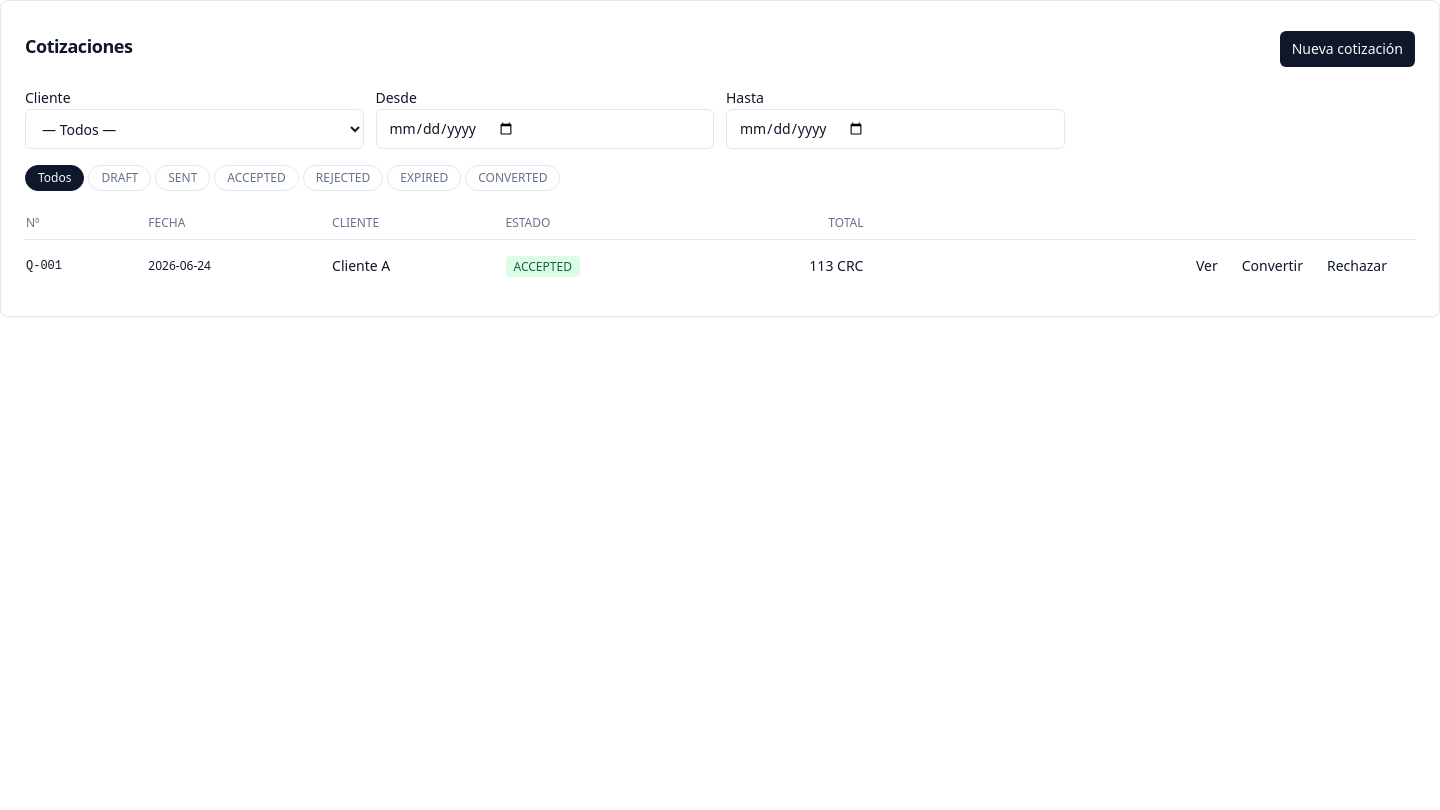
Test: QuotationsPage — selector de nivel de precio por línea (PR-37) › el override manual del precio no se pisa al re-renderizar; margen ef. refleja el precio override
Click the button "Nueva cotización" at (1347, 49), box [1280,31,1415,67]
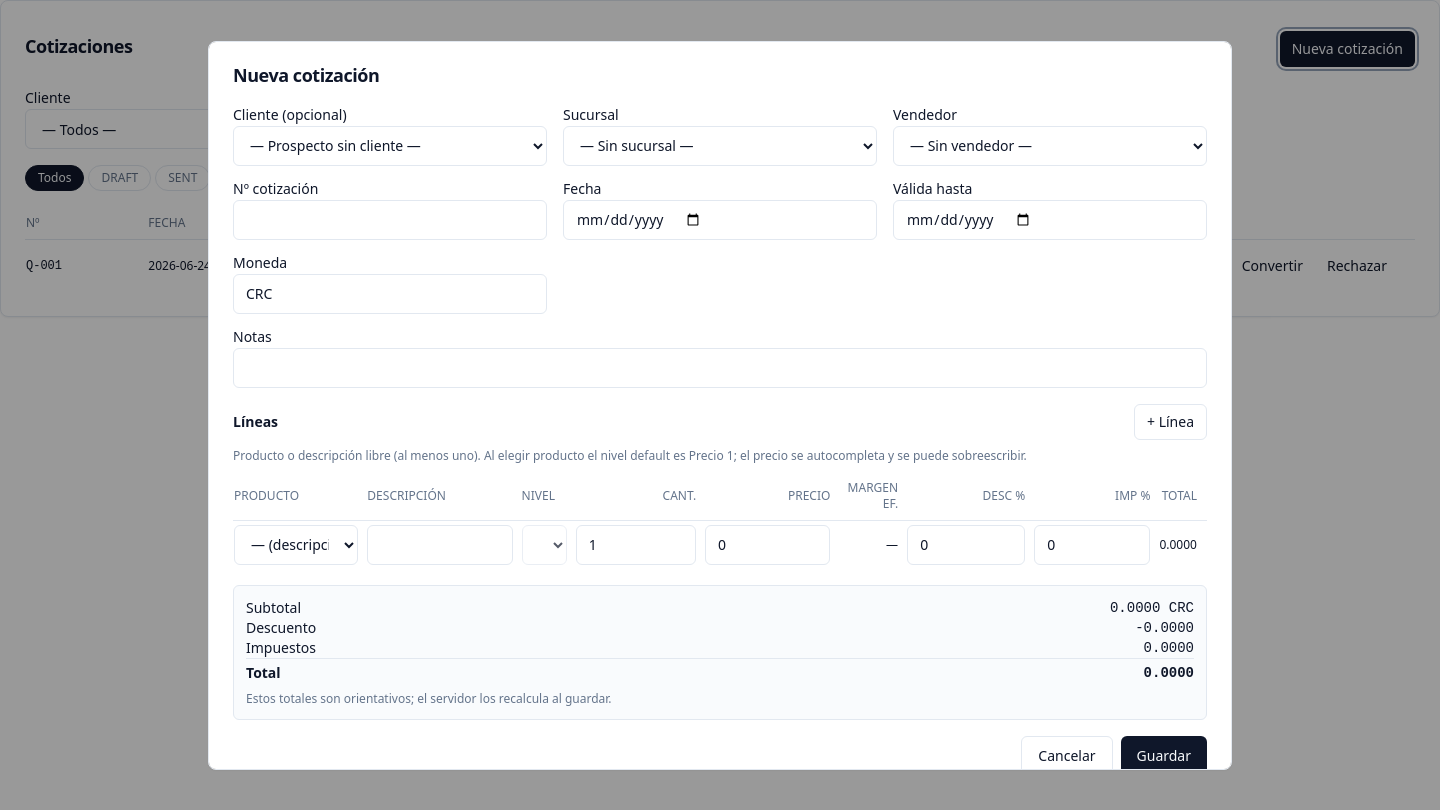
Expected: the dropdown named "producto línea 1" is shown
Select "P-1 — Producto X" in the dropdown named "producto línea 1" at (296, 544), box [234,524,358,564]
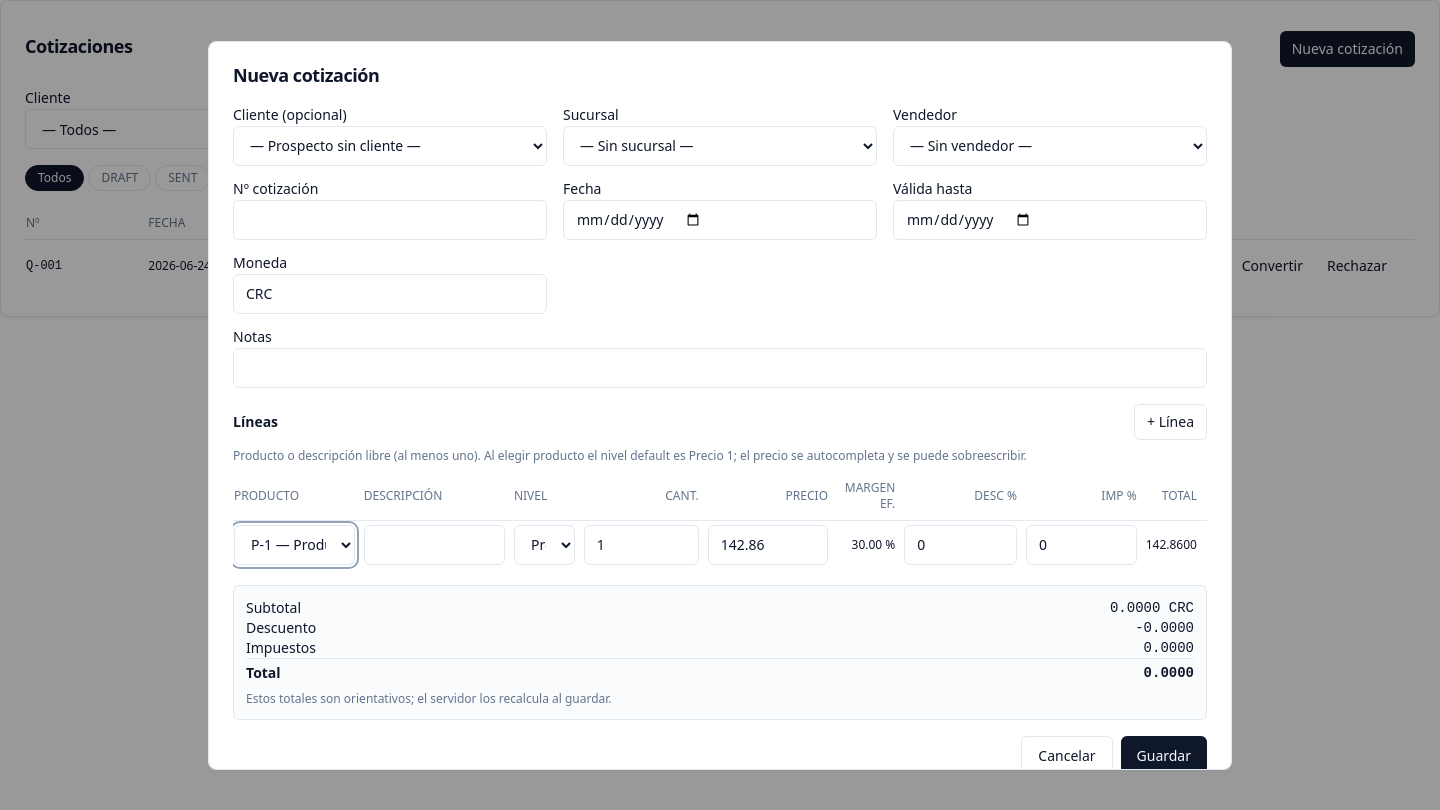
Expected: the dropdown with test id "quote-line-level-0" shows "Precio 1", [514,524,575,564]
Clear the field named "precio línea 1" at (768, 544), box [708,524,828,564]
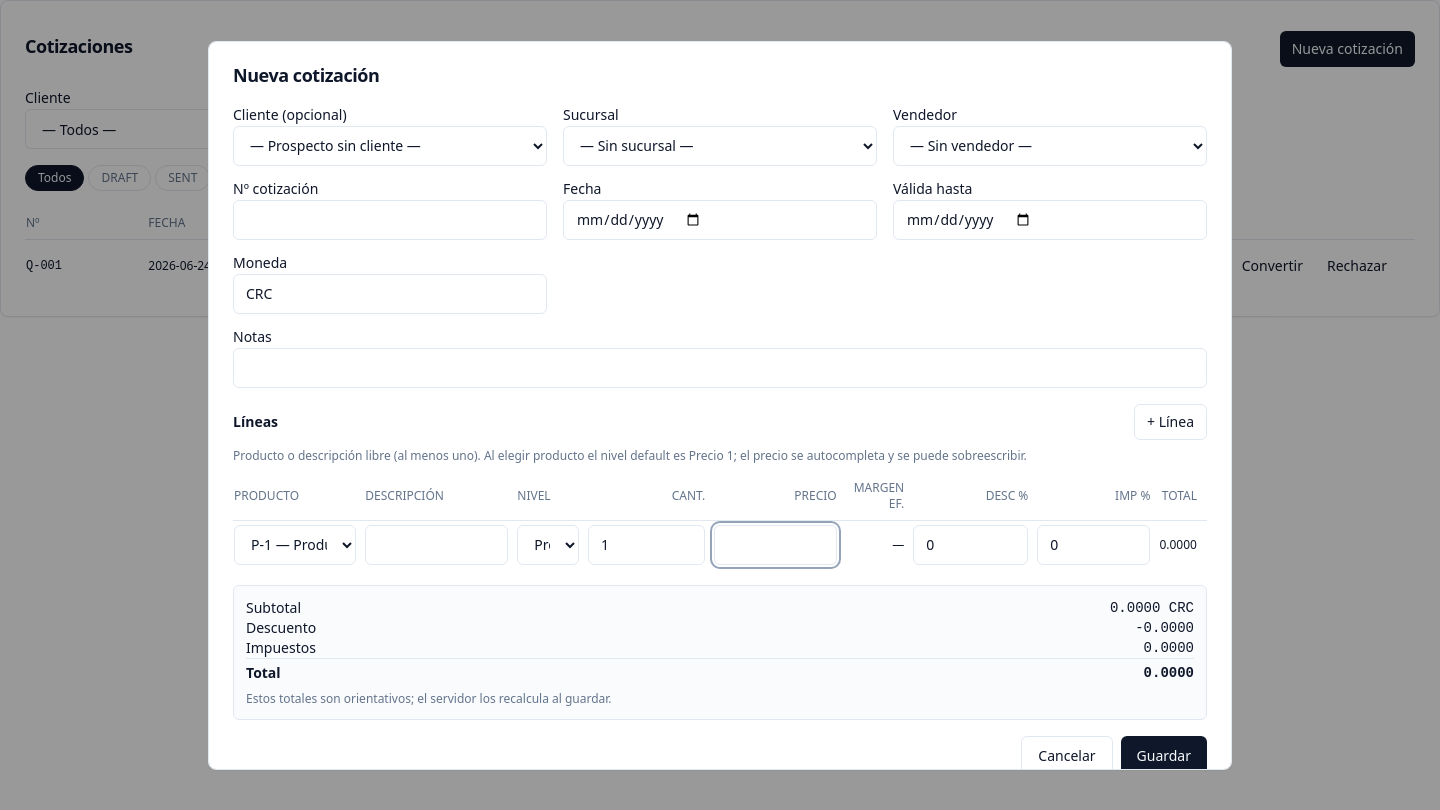
Type "130" into the field named "precio línea 1" at (776, 544), box [714,524,837,564]
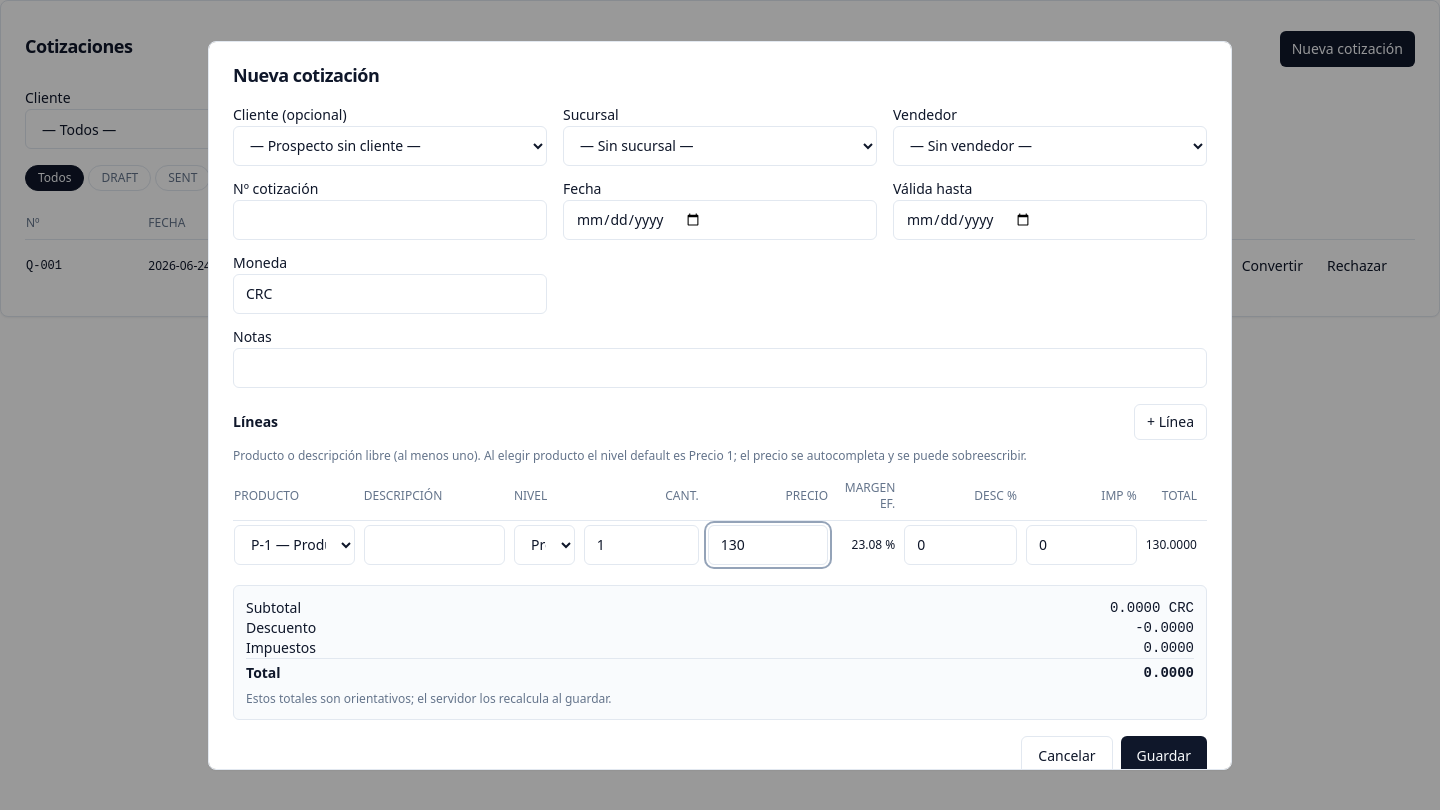
Expected: the dropdown with test id "quote-line-level-0" shows "Precio 1", [514,524,575,564]
Expected: the cell with test id "quote-line-margin-0" reads "23.08 %", [852,536,895,552]
